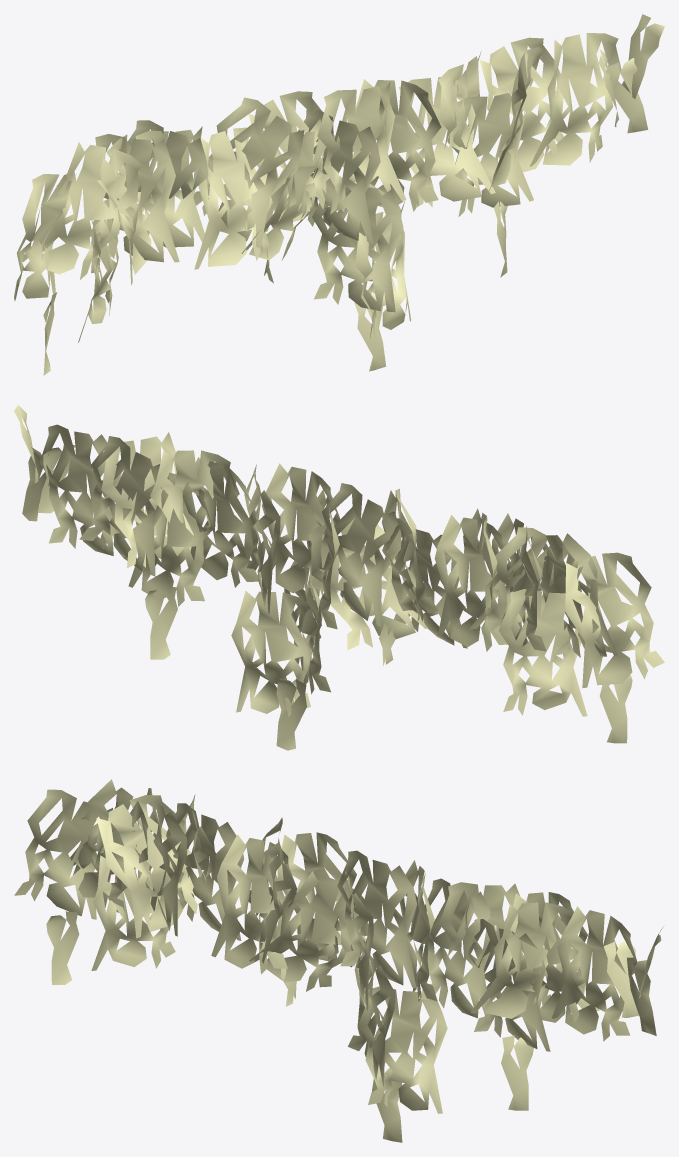
File: ivy_wide.gltf
3 renders of one model, top to bottom at view 1: azimuth 30°, elevation 25°; view 2: azimuth 150°, elevation 25°; view 3: azimuth 330°, elevation 25°, orthographic. The views are drawn at different scales.
Visible parts, largest first — view 1: Ivy_wide; view 2: Ivy_wide; view 3: Ivy_wide.
Part boxes in pixels (box(x1,y1,x2,y2)): Ivy_wide: box(14, 14, 664, 375); Ivy_wide: box(14, 405, 664, 750); Ivy_wide: box(14, 779, 663, 1142).
Bounding box in the file's own units: 12.29 × 5.31 × 1.44.
